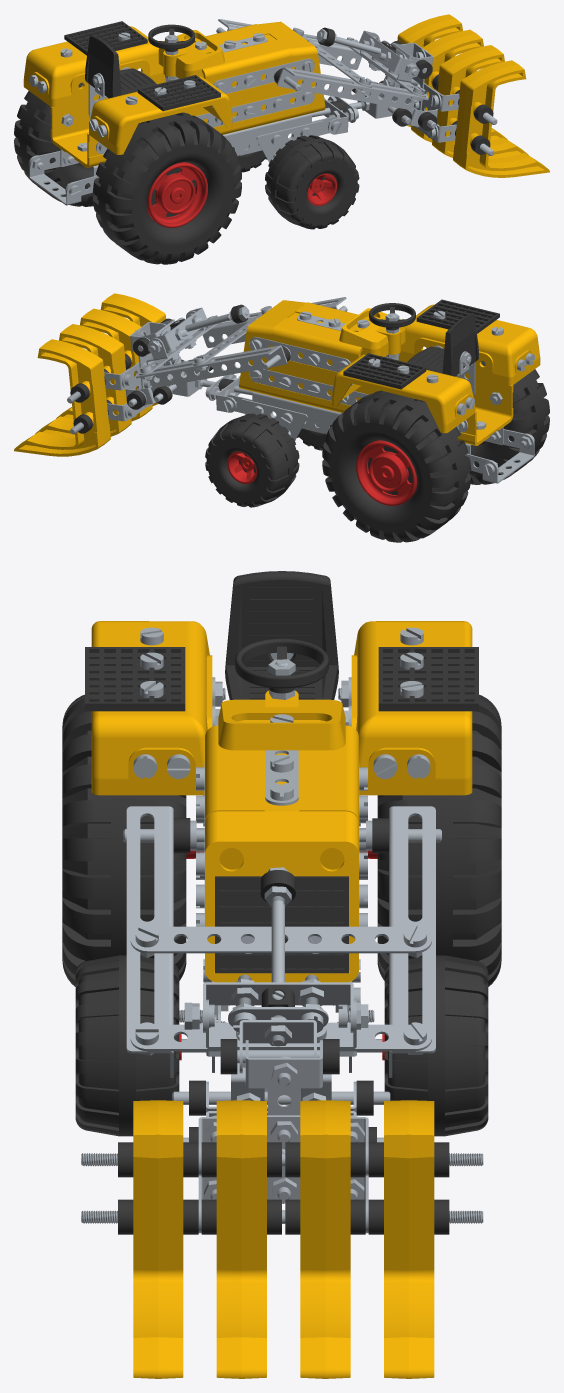
Rendered from Traktor.glb.
The picture shows the model from 3 angles, top to bottom: view 1: azimuth 30°, elevation 25°; view 2: azimuth 150°, elevation 25°; view 3: azimuth 270°, elevation 25°; orthographic projection. The views are drawn at different scales.
Visible parts, largest first — view 1: Reifen 90 x 40 x 37 (×2), Ladeelement (×4), Traktor Schutzblech (×2), Reifen 54 x 10 x 31 (×2), Traktor U 40 (×3), Winkelstab 10 (×2), Gitterplatte (×2), Nabe Breitreifen groß DDR, Traktor U 20 (×2), Sitz (×2), Bügel 1 x 3 x 1 groß (×3), Traktor Armaturenbrett (+11 smaller); view 2: Reifen 90 x 40 x 37 (×2), Ladeelement (×4), Traktor Schutzblech (×2), Reifen 54 x 10 x 31 (×2), Traktor U 40 (×3), Winkelstab 10 (×2), Gitterplatte (×2), Nabe Breitreifen groß DDR, Traktor U 20 (×2), Bügel 1 x 3 x 1 groß (×4), Sitz (×2), Traktor Armaturenbrett (+11 smaller); view 3: Ladeelement (×4), Reifen 90 x 40 x 37 (×2), Traktor Schutzblech (×2), Reifen 54 x 10 x 31 (×2), Gitterplatte (×3), Winkelstab 10 (×2), Traktor Kühlergrill, Sitz (×2), Lochband 9 (×2), Traktor U 40, Traktor Armaturenbrett, Bügel 1 x 3 x 1 groß (×2) (+8 smaller).
Part boxes in pixels (x1,y1,x2,y2): Reifen 90 x 40 x 37 (×2): [14, 82, 241, 264]; Ladeelement (×4): [397, 14, 549, 177]; Traktor Schutzblech (×2): [23, 26, 232, 154]; Reifen 54 x 10 x 31 (×2): [232, 135, 359, 229]; Traktor U 40 (×3): [156, 24, 292, 134]; Winkelstab 10 (×2): [218, 19, 428, 109]; Gitterplatte (×2): [64, 21, 220, 111]; Nabe Breitreifen groß DDR: [147, 162, 207, 227]; Traktor U 20 (×2): [50, 57, 234, 167]; Sitz (×2): [85, 35, 156, 98]; Bügel 1 x 3 x 1 groß (×3): [29, 30, 416, 205]; Traktor Armaturenbrett: [158, 30, 224, 78]; Reifen 90 x 40 x 37 (×2): [322, 360, 549, 542]; Ladeelement (×4): [14, 293, 166, 456]; Traktor Schutzblech (×2): [332, 304, 540, 433]; Reifen 54 x 10 x 31 (×2): [205, 413, 332, 507]; Traktor U 40 (×3): [271, 302, 407, 412]; Winkelstab 10 (×2): [136, 297, 346, 387]; Gitterplatte (×2): [343, 299, 499, 389]; Nabe Breitreifen groß DDR: [356, 440, 417, 505]; Traktor U 20 (×2): [329, 335, 513, 445]; Bügel 1 x 3 x 1 groß (×4): [149, 307, 534, 483]; Sitz (×2): [407, 314, 478, 376]; Traktor Armaturenbrett: [339, 308, 405, 356]; Ladeelement (×4): [133, 1100, 434, 1378]; Reifen 90 x 40 x 37 (×2): [62, 694, 501, 986]; Traktor Schutzblech (×2): [91, 621, 472, 795]; Reifen 54 x 10 x 31 (×2): [75, 955, 488, 1136]; Gitterplatte (×3): [85, 647, 478, 973]; Winkelstab 10 (×2): [126, 806, 435, 1077]; Traktor Kühlergrill: [205, 811, 358, 982]; Sitz (×2): [225, 571, 338, 699]; Lochband 9 (×2): [130, 926, 431, 1051]; Traktor U 40: [205, 753, 358, 820]; Traktor Armaturenbrett: [218, 690, 345, 750]; Bügel 1 x 3 x 1 groß (×2): [203, 982, 356, 1048].
Size of the model in its own units: 0.3199 by 0.1341 by 0.131.
